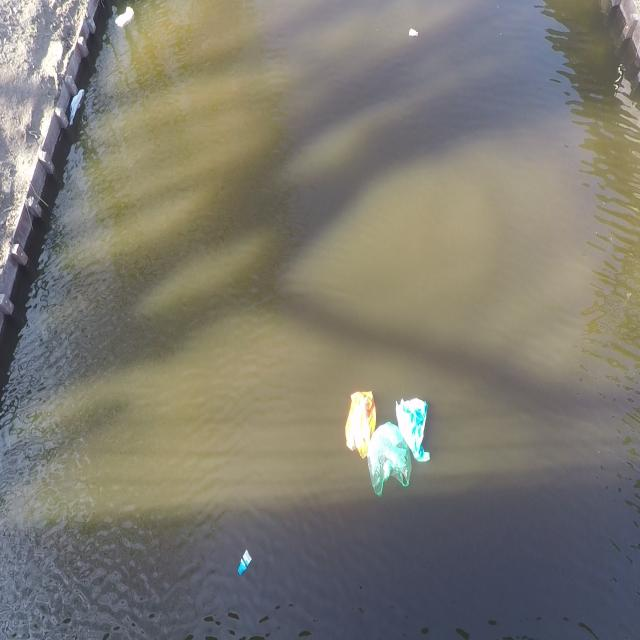Autre plastique: (234, 549, 256, 584)
Sac plastique: (365, 422, 412, 498), (395, 393, 435, 472)
